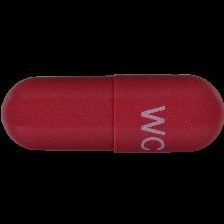0430-0753: (0, 0, 224, 224)
